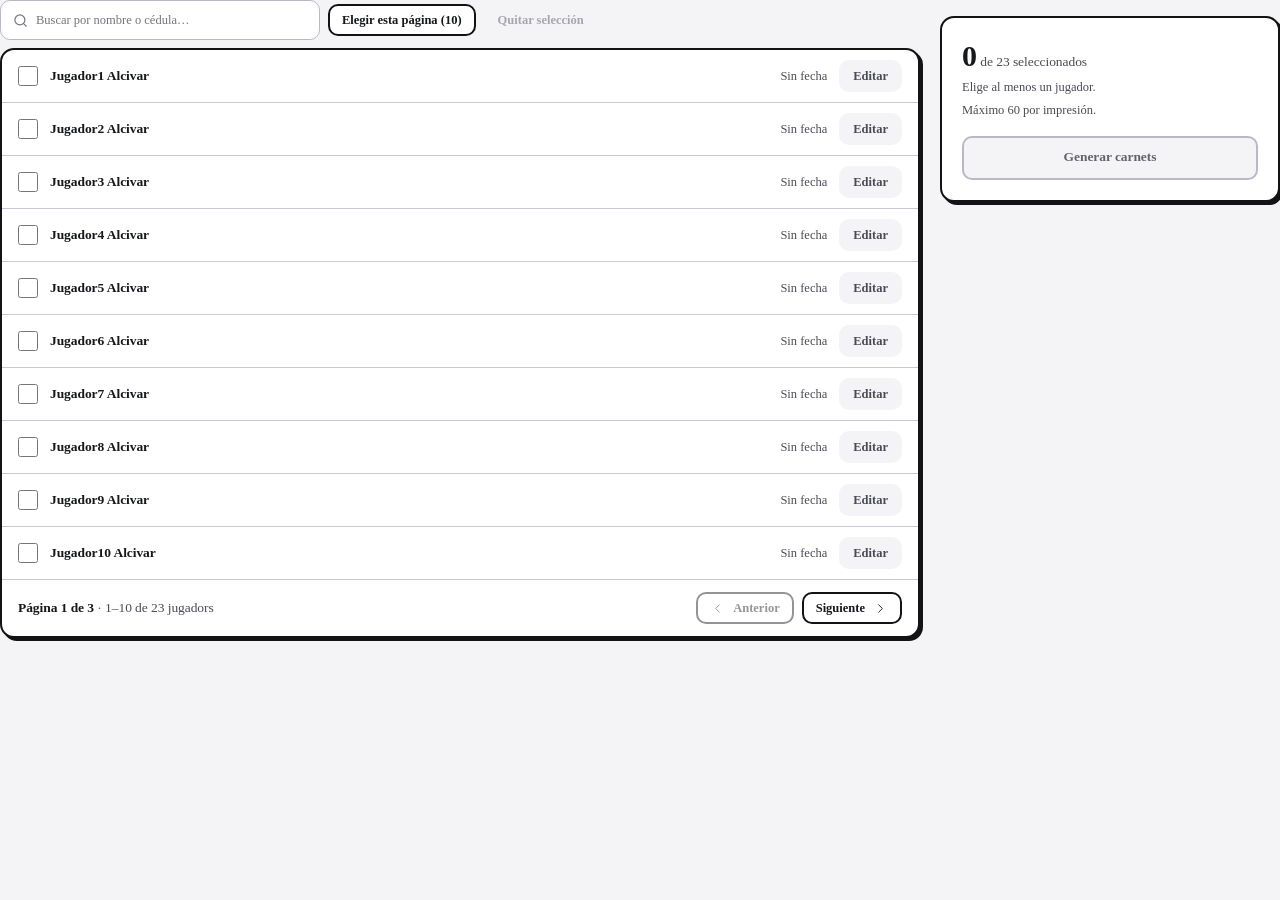
Test: CarnetPicker — pagination (#1749, S2) › «Elegir esta página» chooses only the rows on the current page and keeps earlier choices
Click the button "Elegir esta página (10)" at (402,20), box [328, 4, 476, 36]
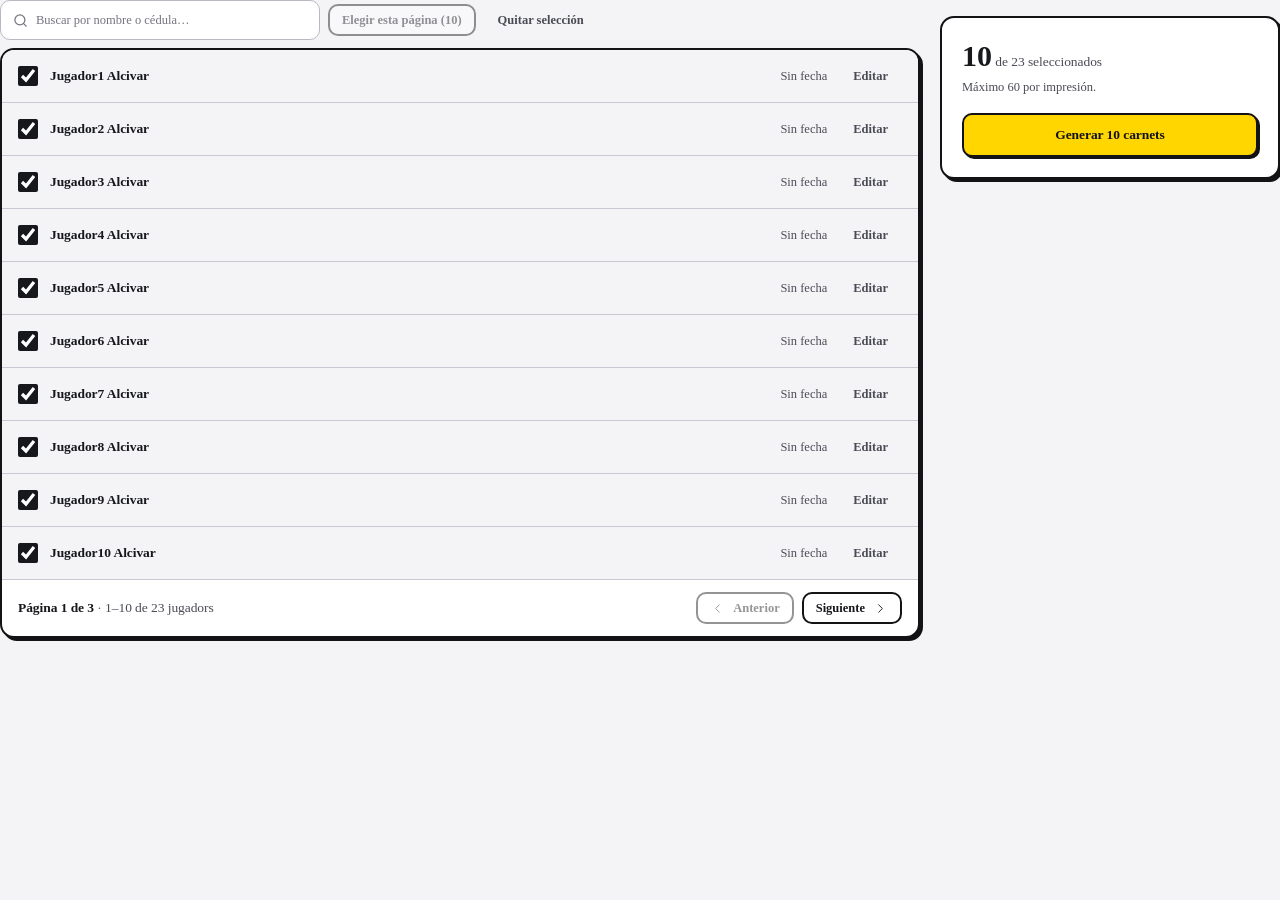
Click the button "Siguiente" at (852,608), box [802, 592, 902, 624]
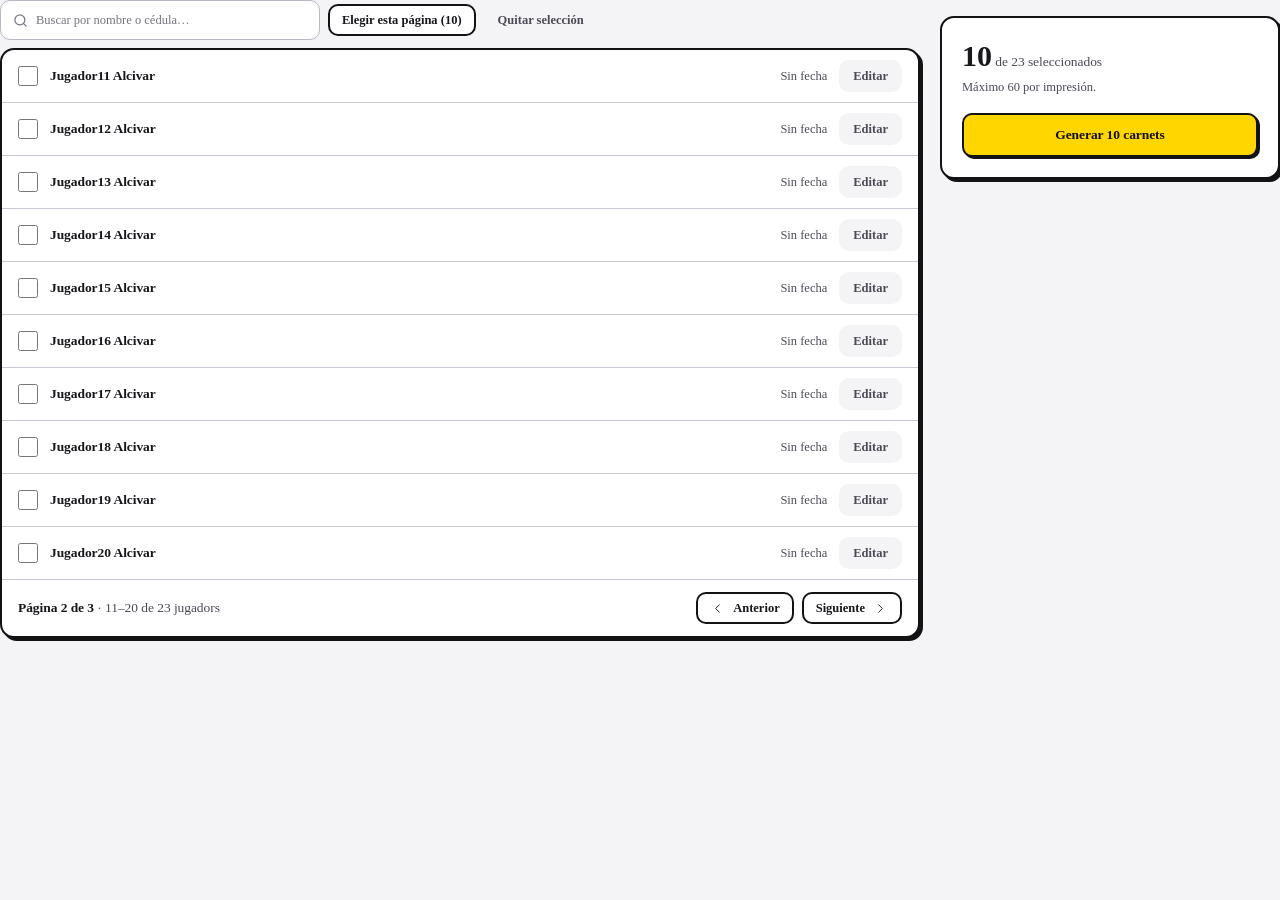
Click the button "Elegir esta página (10)" at (402,20), box [328, 4, 476, 36]
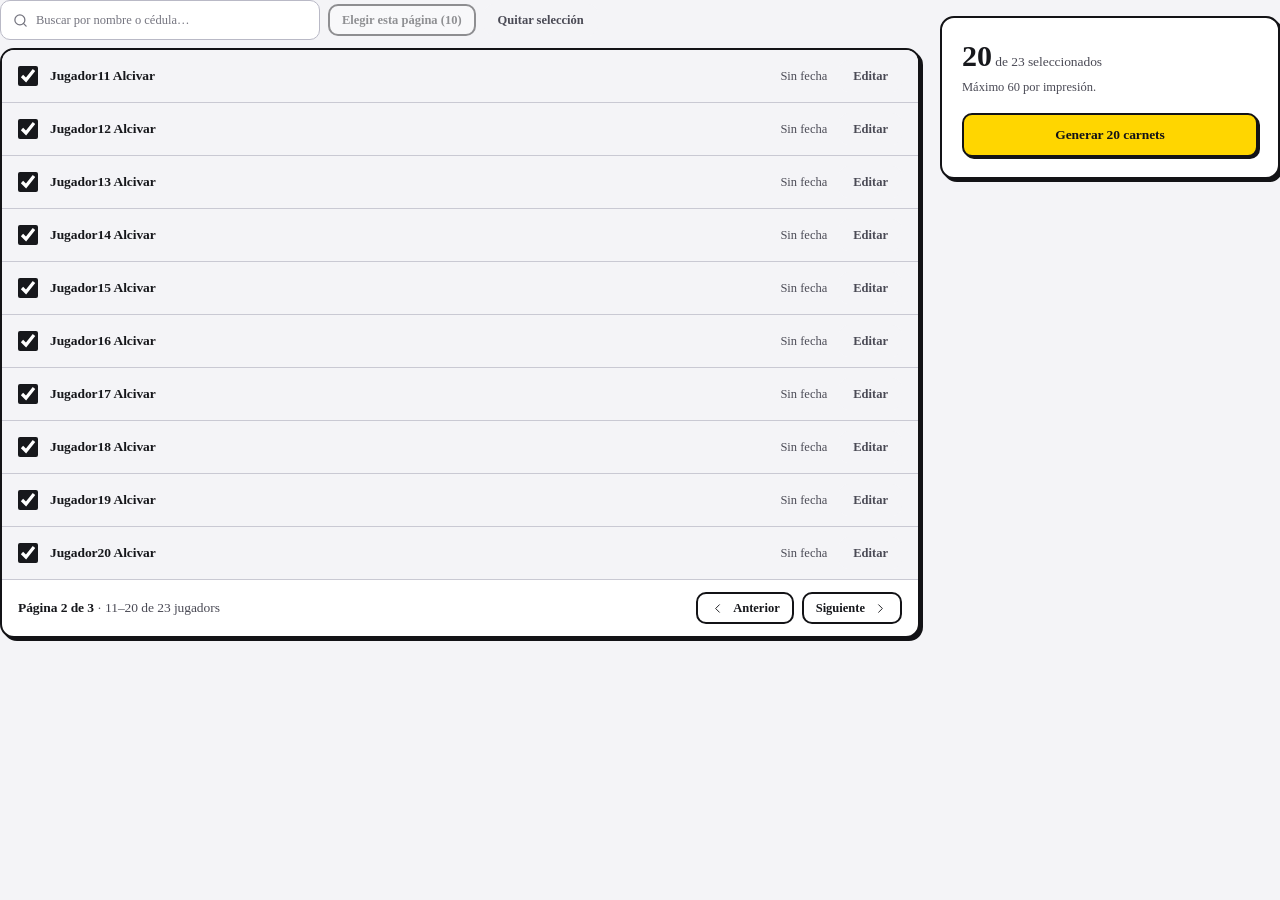
Click the button "Siguiente" at (852,608), box [802, 592, 902, 624]
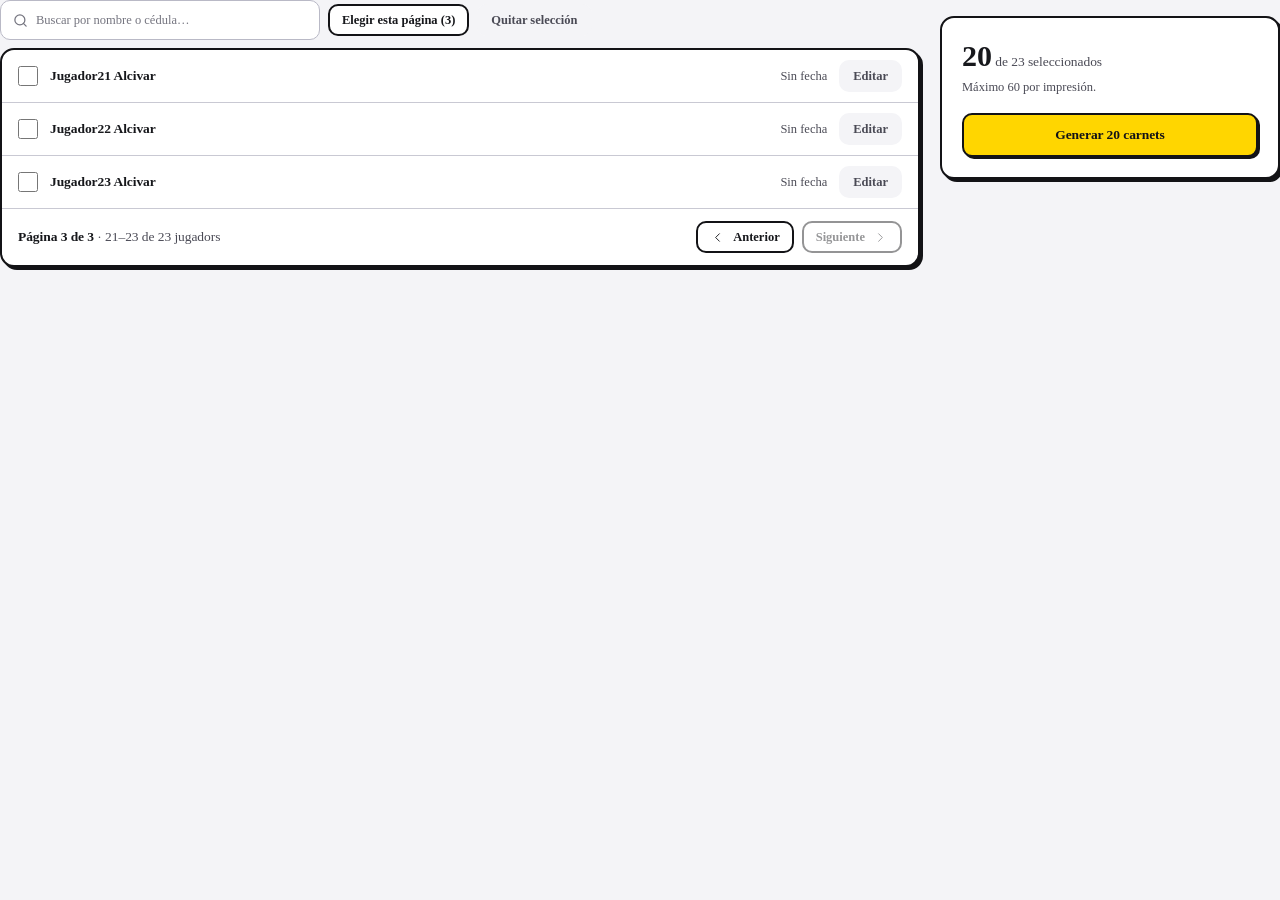
Now the button "Elegir esta página (3)" is enabled, box [328, 4, 469, 36]
